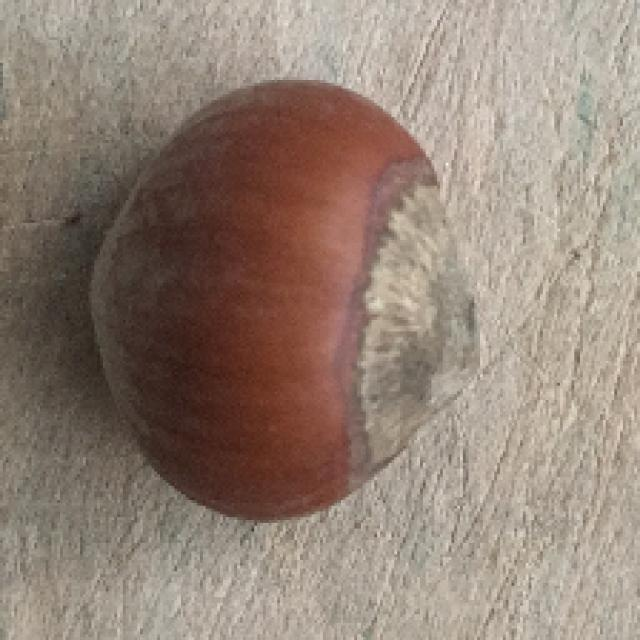qualityHazelnut: (83, 75, 472, 522)
